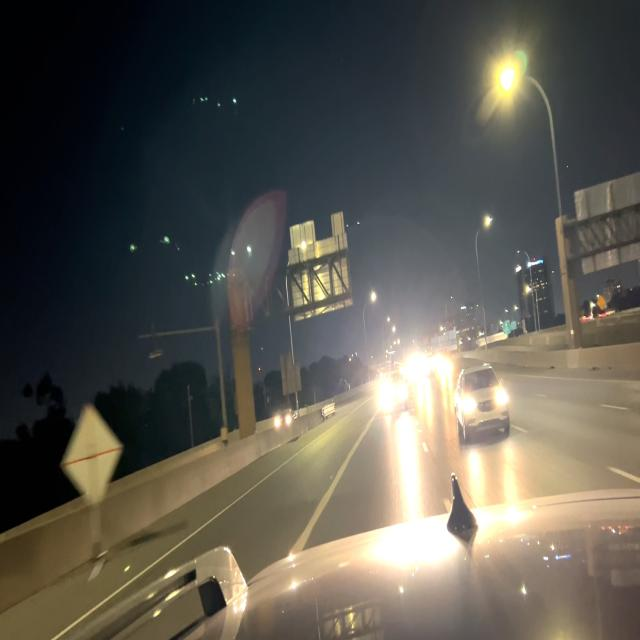back-of-sign: (287, 210, 352, 325), (572, 172, 640, 275), (279, 347, 303, 399)
